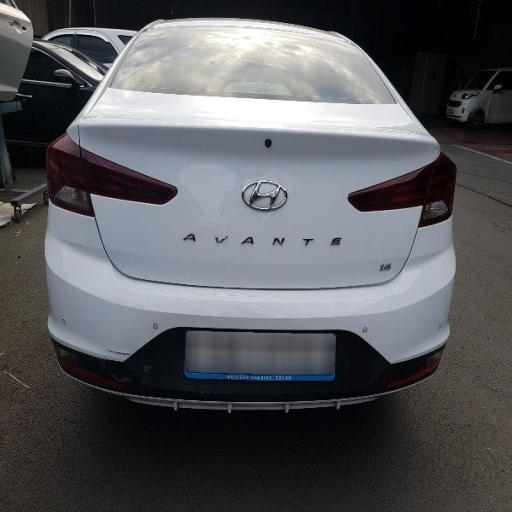scratch: (151, 134, 259, 258)
